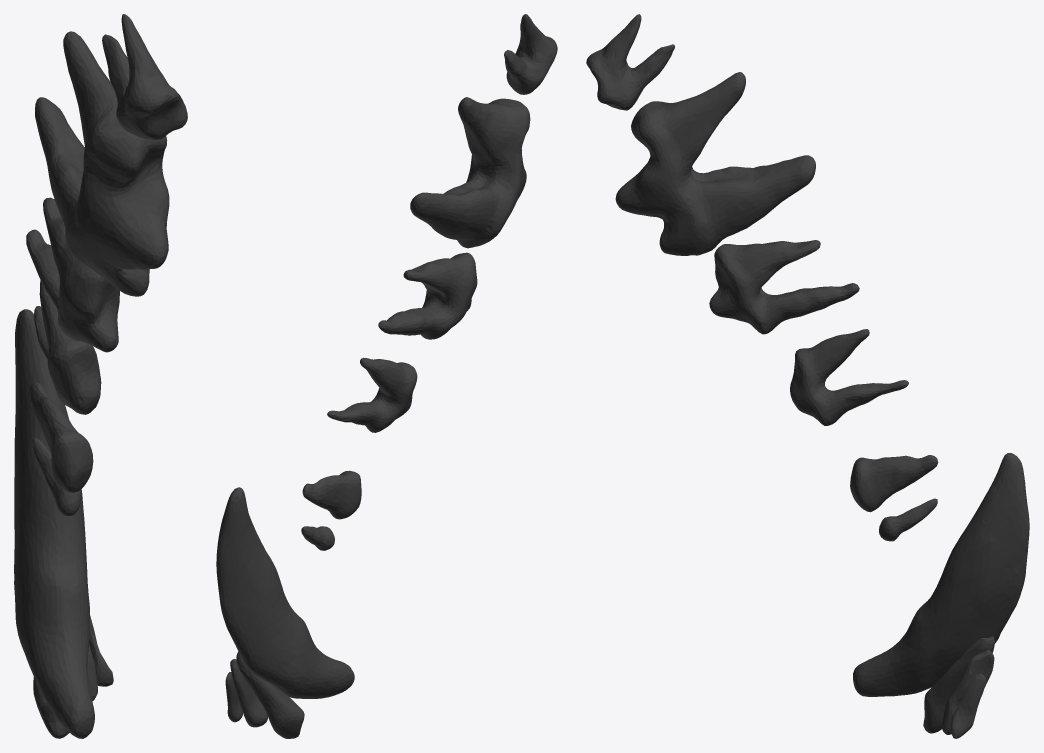
Rendered from 410tooth.glb.
3 views of the same model, side by side, from view 1: azimuth 30°, elevation 25°; view 2: azimuth 150°, elevation 25°; view 3: azimuth 270°, elevation 25° (orthographic). The views are drawn at different scales.
Parts seen in each view (by area): view 1: 410tooth; view 2: 410tooth; view 3: 410tooth.
Boxes of the visible parts, x1=… form: 410tooth: x1=14, y1=14, x2=187, y2=738; 410tooth: x1=216, y1=14, x2=557, y2=738; 410tooth: x1=586, y1=14, x2=1029, y2=738.
Size of the model in its own units: 0.2528 by 0.9873 by 0.592.
1 material, 1 textured.
